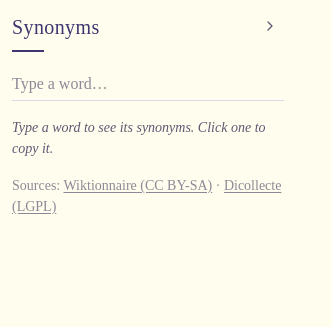
SynonymsPanel › collapses the extra suggestions and flags less reliable groups
Type "rapides" into the search field.
click(148, 84); type("rapides")  # box x1=12 y1=68 x2=284 y2=100
Wait 250 ms
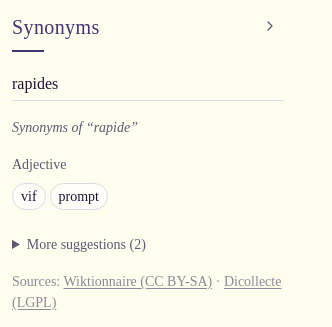
Expected: the text "May include other senses." is not shown
Replace the text in the search field with "rares" at coordinates (148, 84), box x1=12 y1=68 x2=284 y2=100
Wait 250 ms
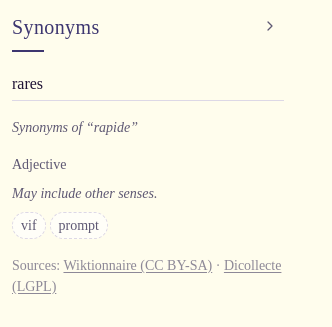
Expected: the text "May include other senses." is shown, x1=12 y1=186 x2=157 y2=200
